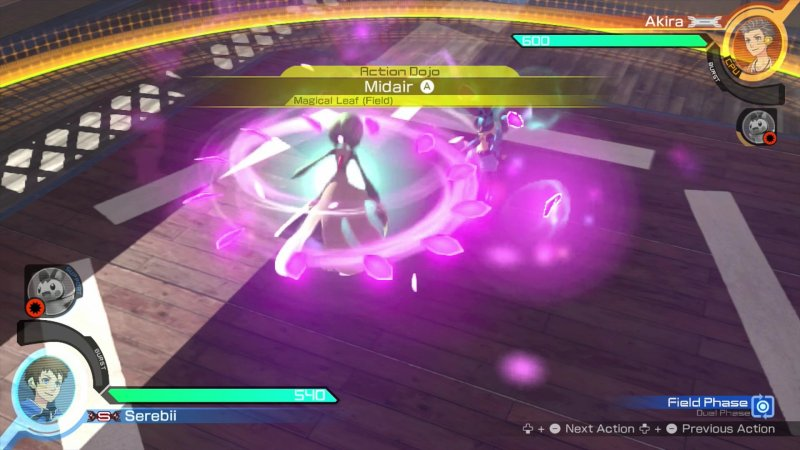gardevoir: (268, 107, 388, 258)
